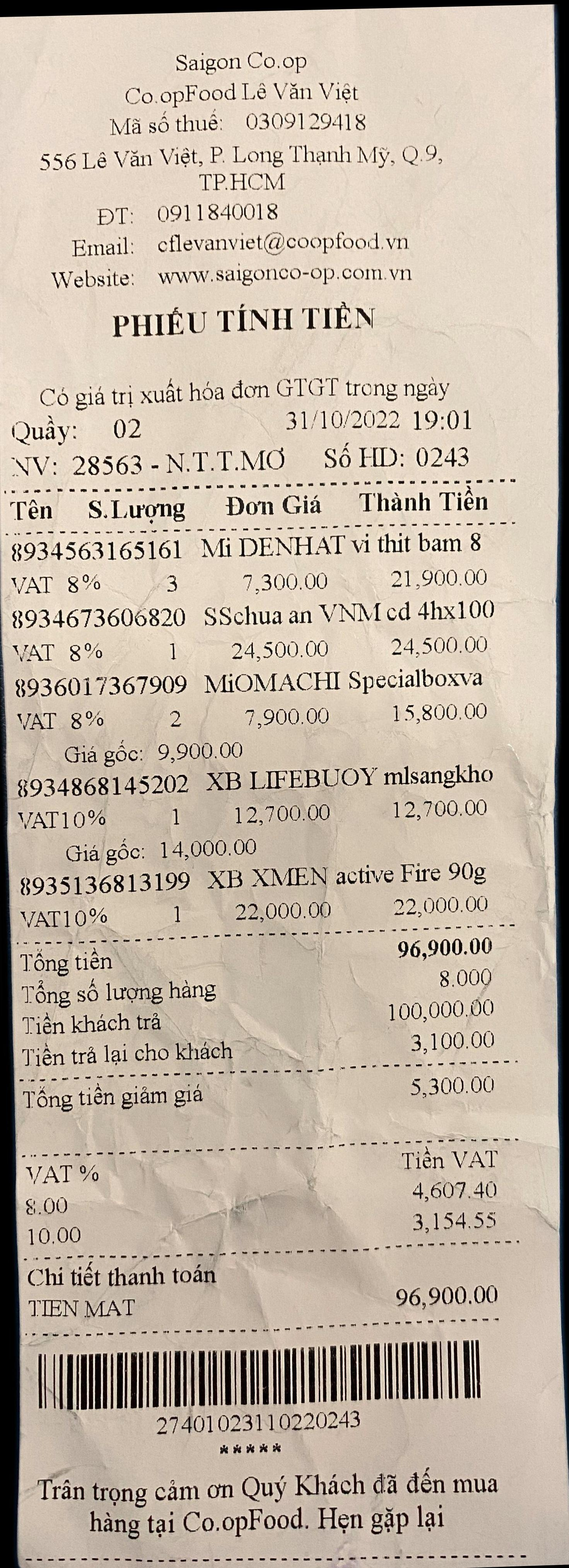Date: (273, 403, 410, 437)
Store_Name: (120, 35, 345, 82)
Total_Amount: (4, 928, 507, 977)
